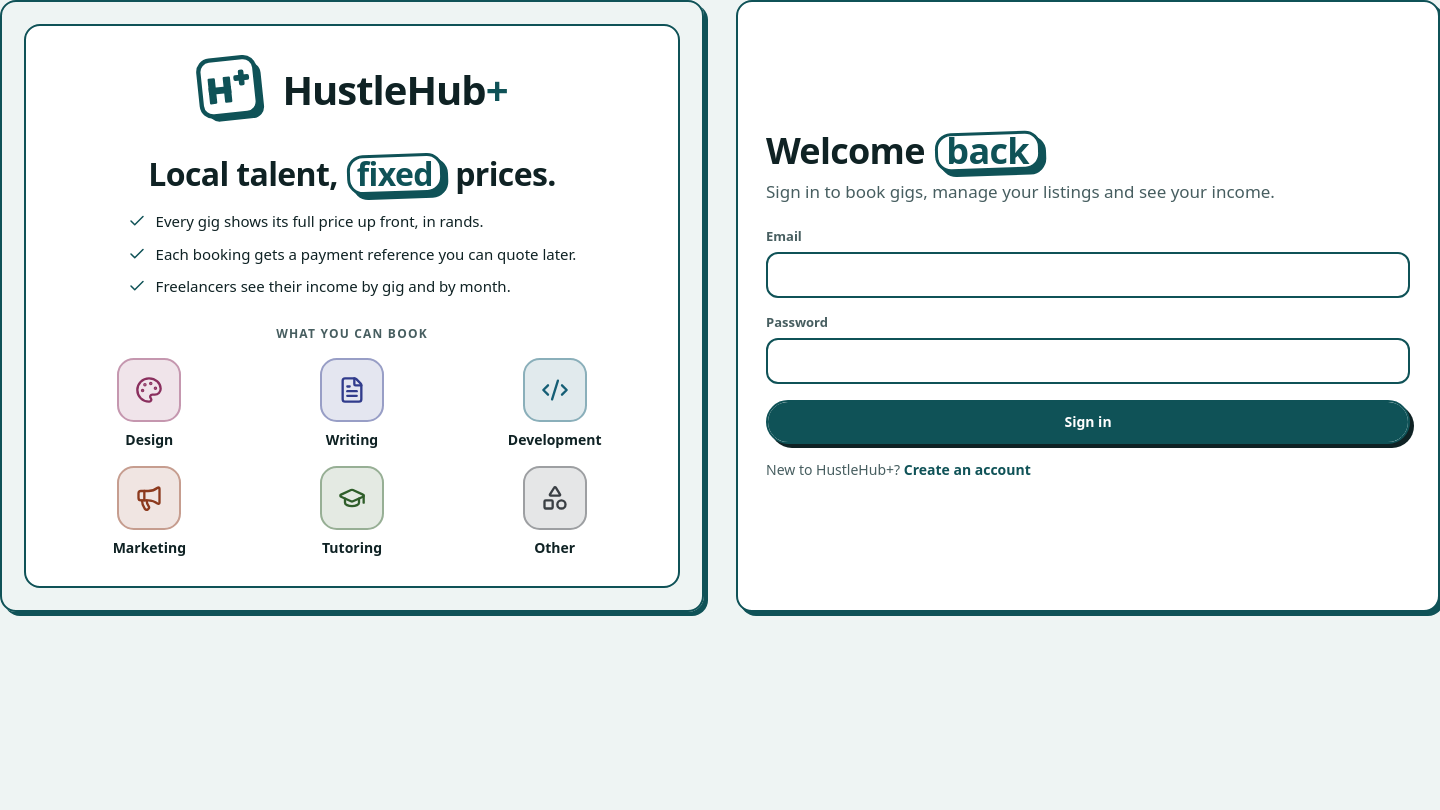
it: Login page interaction › never renders a raw error, only the safe generic sentence
The image size is (1440, 810).
Type "me@example.co.za" into the field labelled "Email".
click(1088, 275); type("me@example.co.za")  # box [766,252,1410,298]
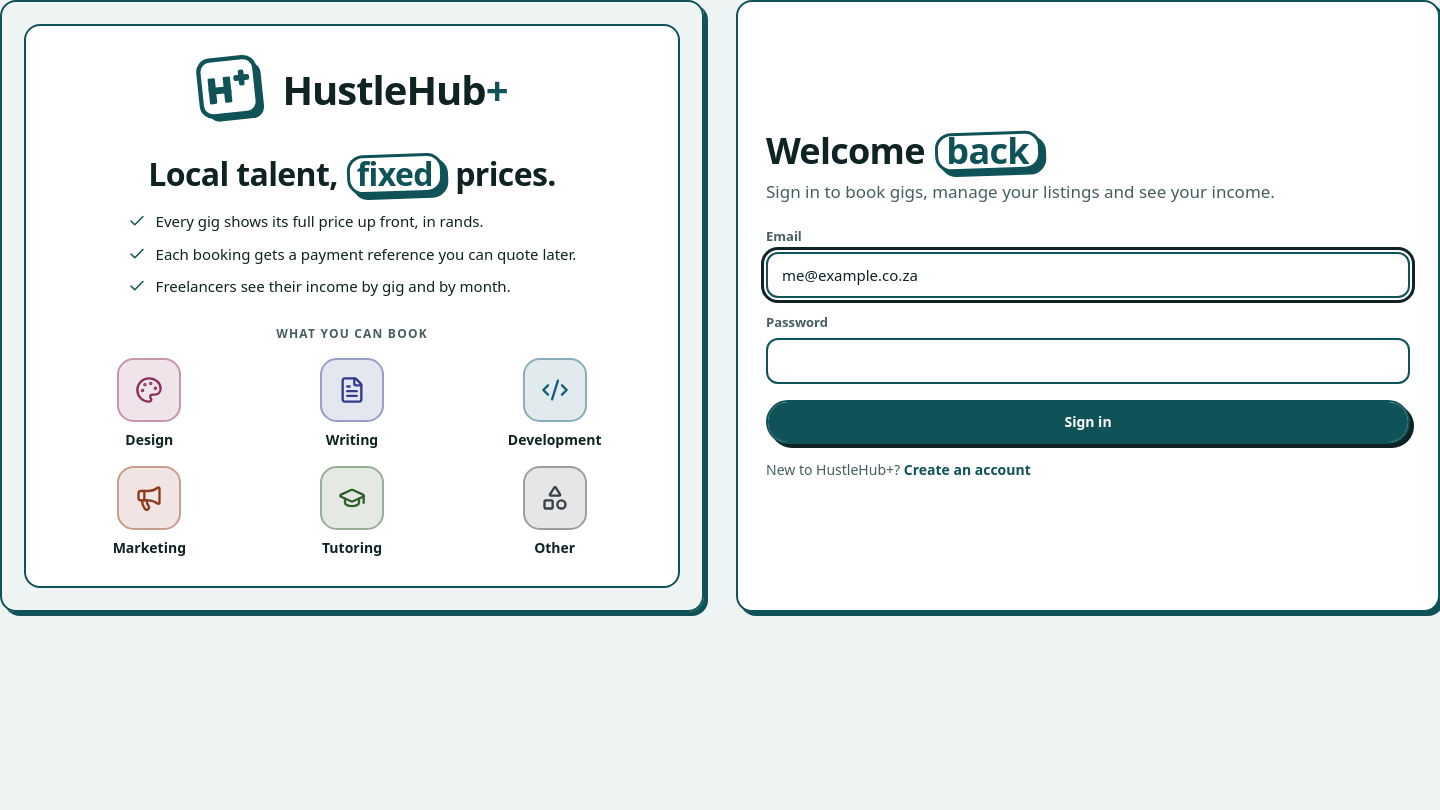
Type "Passw0rd1" into the password field labelled "Password".
click(1088, 361); type("Passw0rd1")  # box [766,338,1410,384]
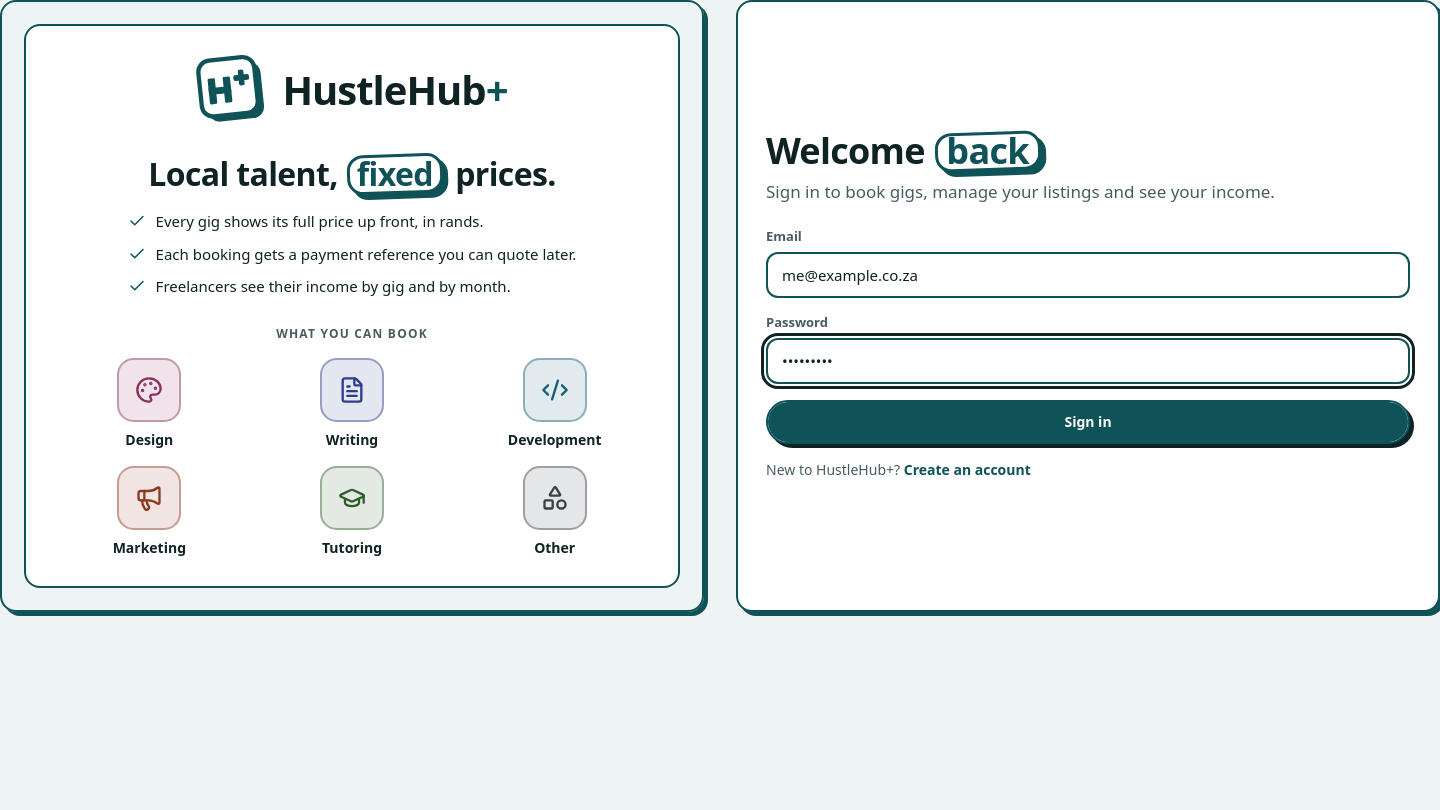
Click the button "Sign in".
click(1088, 422)  # box [766,400,1410,444]
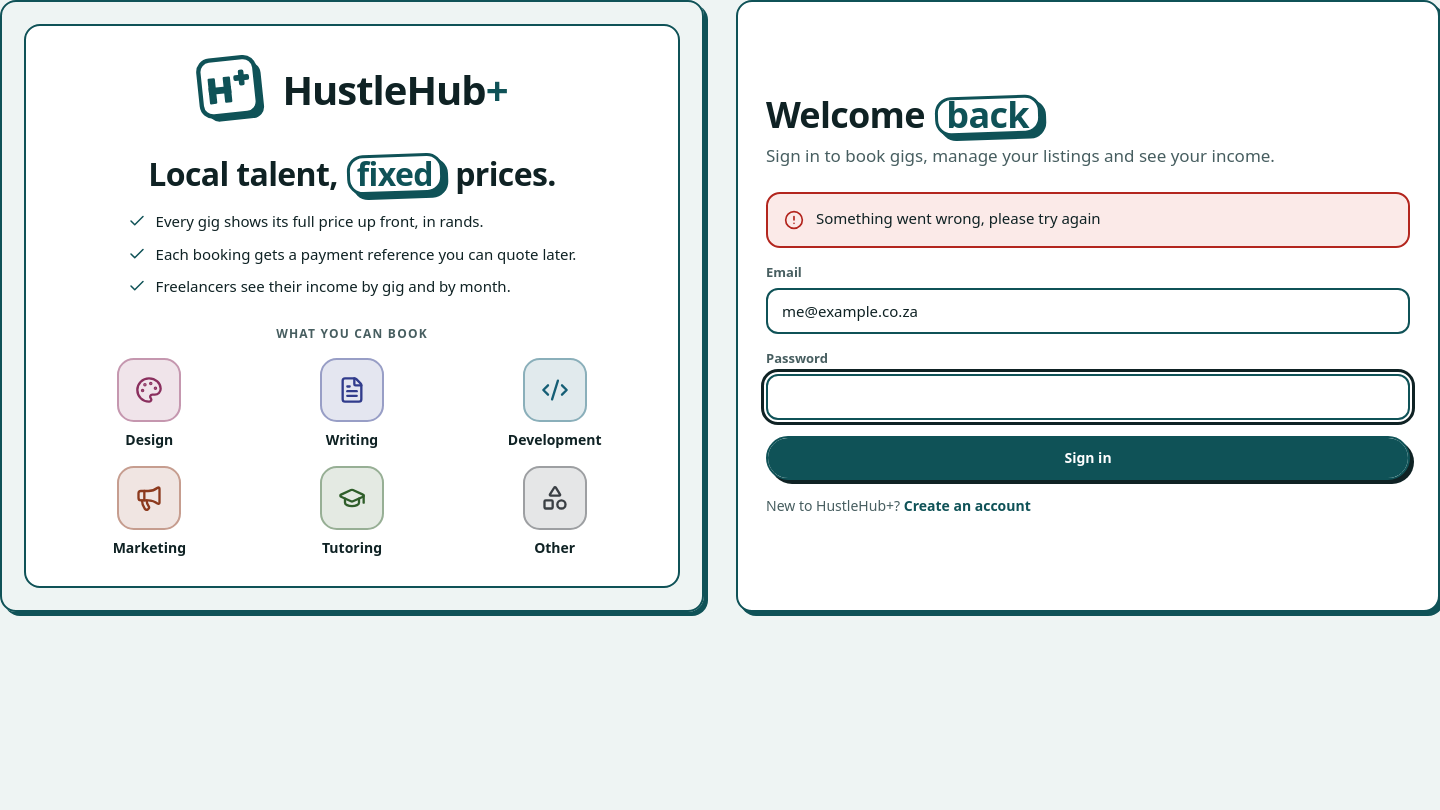
Now the message "Something went wrong, please try again" is shown, box [766,192,1410,248]
